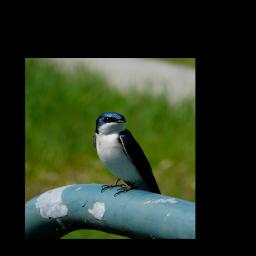Swallow: (91, 110, 161, 197)
